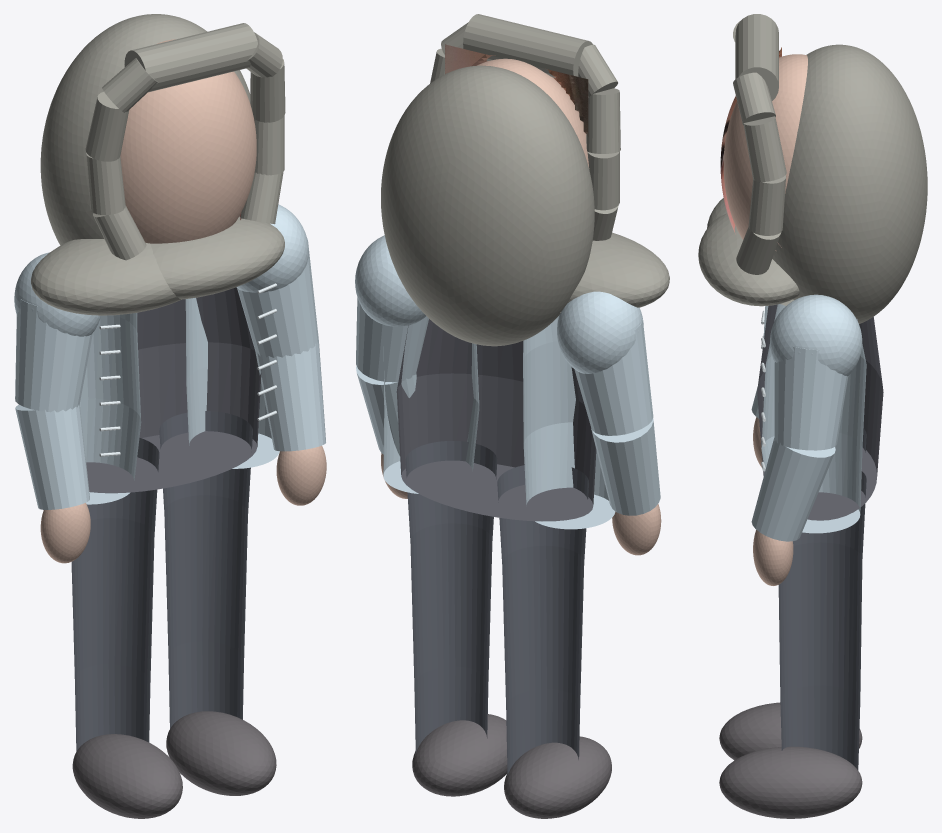
File: jihad_v2.glb
3 renders of one model, left to right at view 1: azimuth 30°, elevation 25°; view 2: azimuth 150°, elevation 25°; view 3: azimuth 270°, elevation 25°, orthographic. The views are drawn at different scales.
Parts seen in each view (by area): view 1: trouser1, head face volume, trouser-1, black blouse, scarf back, scarf shoulder fold, cardigan panel -1, shoe-1, shoe1, chin scarf, upper sleeve -1, lower sleeve -1 (+16 smaller); view 2: scarf back, black blouse, trouser1, trouser-1, cardigan panel -1, shoe-1, shoe1, shoulder -1, upper sleeve -1, scarf shoulder fold, top scarf fold, lower sleeve -1 (+11 smaller); view 3: scarf back, trouser1, shoe1, upper sleeve 1, cardigan panel 1, lower sleeve 1, head face volume, shoulder 1, black blouse, chin scarf, top scarf fold, shoe-1 (+6 smaller).
Boxes of the visible parts, bbox=[...] form: trouser1: bbox=[159, 411, 252, 728]; head face volume: bbox=[120, 39, 256, 243]; trouser-1: bbox=[71, 437, 159, 751]; black blouse: bbox=[86, 287, 261, 493]; scarf back: bbox=[40, 14, 250, 245]; scarf shoulder fold: bbox=[31, 239, 181, 315]; cardigan panel -1: bbox=[80, 313, 141, 504]; shoe-1: bbox=[72, 734, 182, 818]; shoe1: bbox=[166, 711, 276, 795]; chin scarf: bbox=[150, 216, 284, 299]; upper sleeve -1: bbox=[15, 299, 92, 412]; lower sleeve -1: bbox=[15, 404, 89, 509]; scarf back: bbox=[381, 65, 594, 346]; black blouse: bbox=[396, 319, 596, 521]; trouser1: bbox=[405, 441, 497, 771]; trouser-1: bbox=[497, 465, 588, 776]; cardigan panel -1: bbox=[523, 316, 615, 529]; shoe-1: bbox=[504, 736, 611, 818]; shoe1: bbox=[412, 714, 507, 796]; shoulder -1: bbox=[557, 291, 643, 373]; upper sleeve -1: bbox=[574, 319, 653, 435]; scarf shoulder fold: bbox=[567, 232, 669, 307]; top scarf fold: bbox=[463, 14, 592, 77]; lower sleeve -1: bbox=[591, 418, 660, 515]; scarf back: bbox=[772, 44, 927, 323]; trouser1: bbox=[778, 471, 866, 771]; shoe1: bbox=[719, 746, 862, 818]; upper sleeve 1: bbox=[774, 346, 848, 450]; cardigan panel 1: bbox=[761, 304, 866, 533]; lower sleeve 1: bbox=[751, 437, 835, 541]; head face volume: bbox=[723, 54, 807, 239]; shoulder 1: bbox=[770, 294, 862, 376]; black blouse: bbox=[757, 304, 883, 520]; chin scarf: bbox=[698, 213, 799, 306]; top scarf fold: bbox=[735, 14, 778, 100]; shoe-1: bbox=[719, 702, 862, 760].
Size of the model in its own units: 0.7886 by 1.97 by 0.545.
9 materials, 1 textured.
